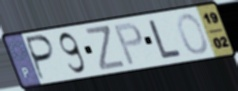9: (58, 31, 87, 75)
L: (147, 18, 184, 60)
O: (176, 13, 210, 57)
P: (25, 33, 57, 82), (112, 21, 145, 67)
Z: (83, 25, 128, 73)
